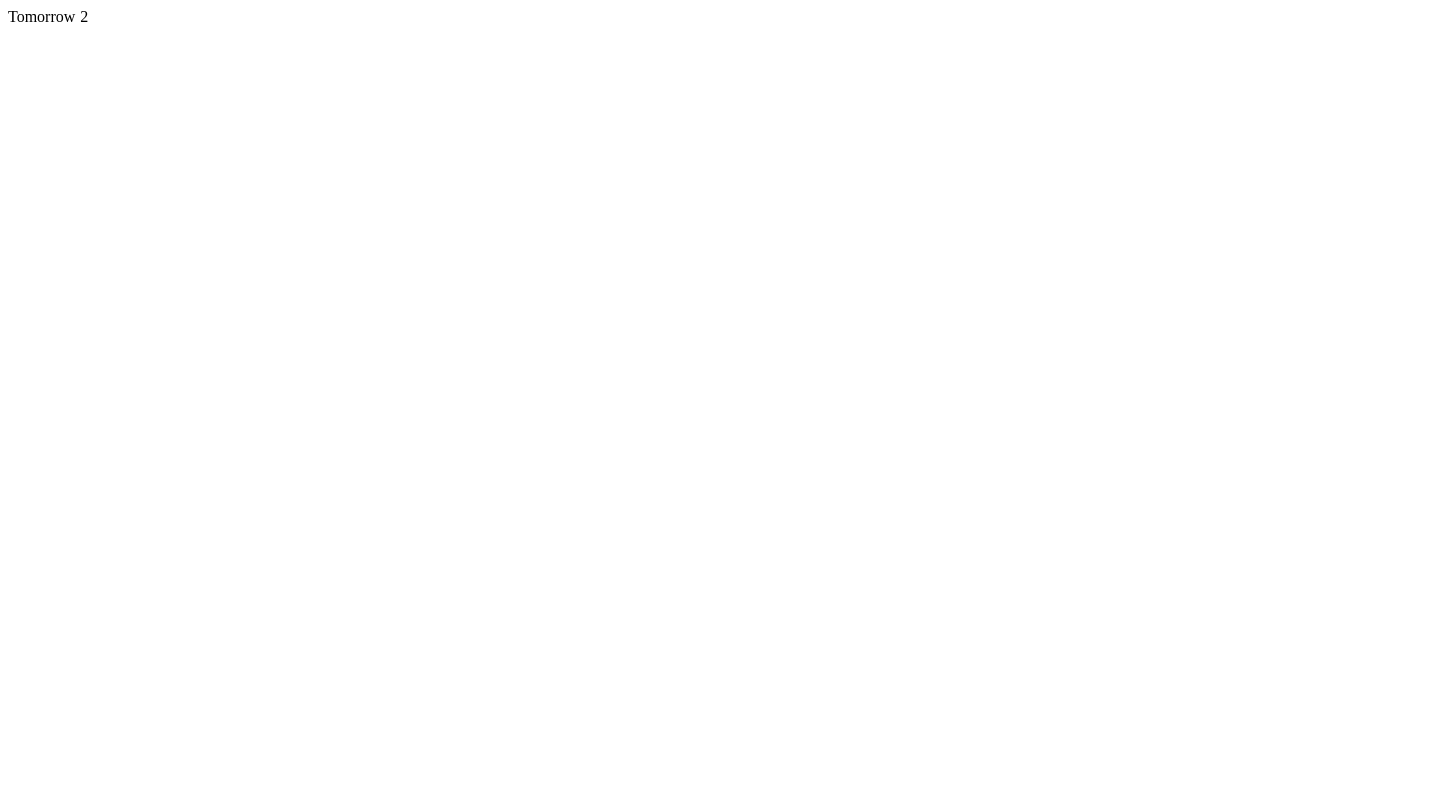
Scenario: TomorrowChip › opens popover and lists summaries on click
The width and height of the screenshot is (1440, 810).
Click the button "Tomorrow 2": (51, 17) [8,8,93,26]
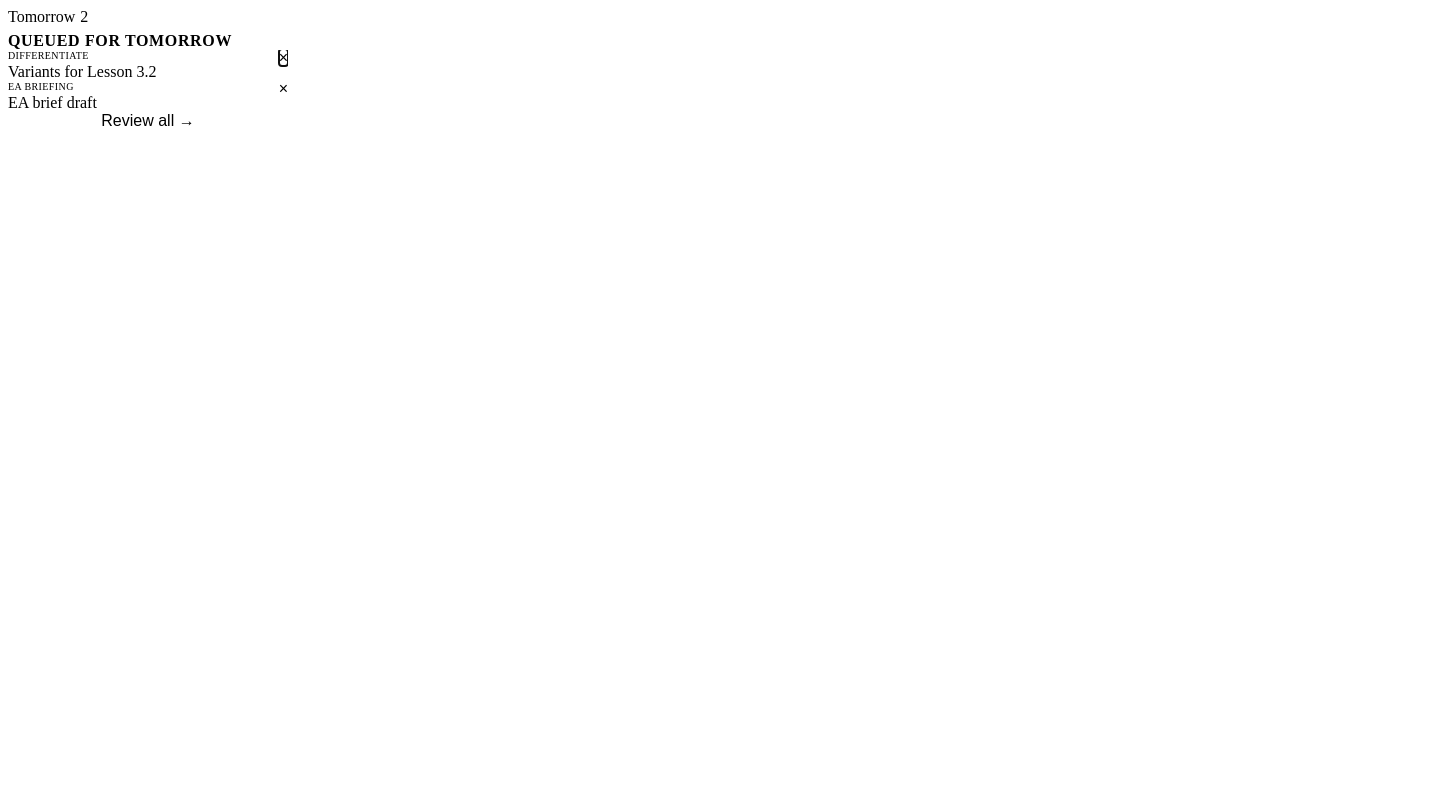
Now the text "Variants for Lesson 3.2" is shown, box [8,63,156,80]
Now the text "EA brief draft" is shown, box [8,94,97,111]
